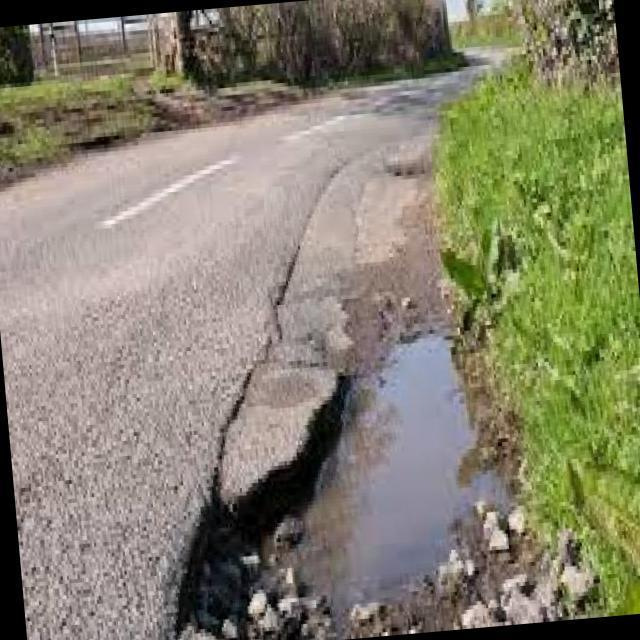Pothole: (174, 334, 552, 640)
